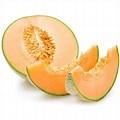Melon Ripe: (2, 15, 79, 80), (26, 45, 99, 96), (66, 45, 119, 101)
